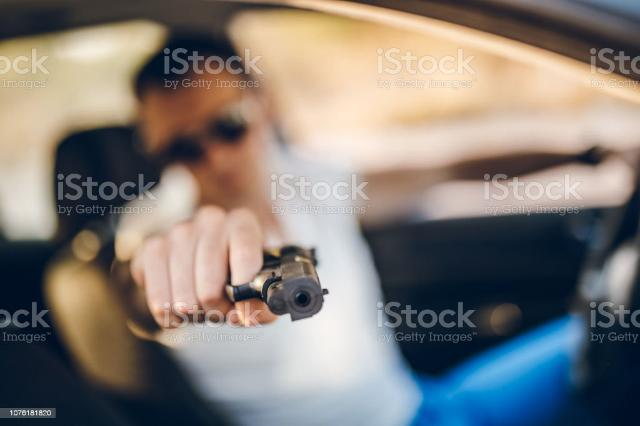handgun: (217, 241, 331, 323)
